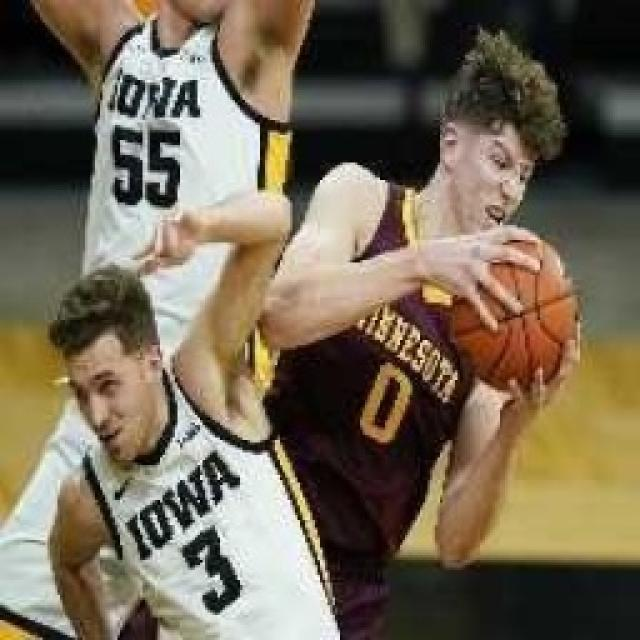rim: (452, 227, 583, 393)
